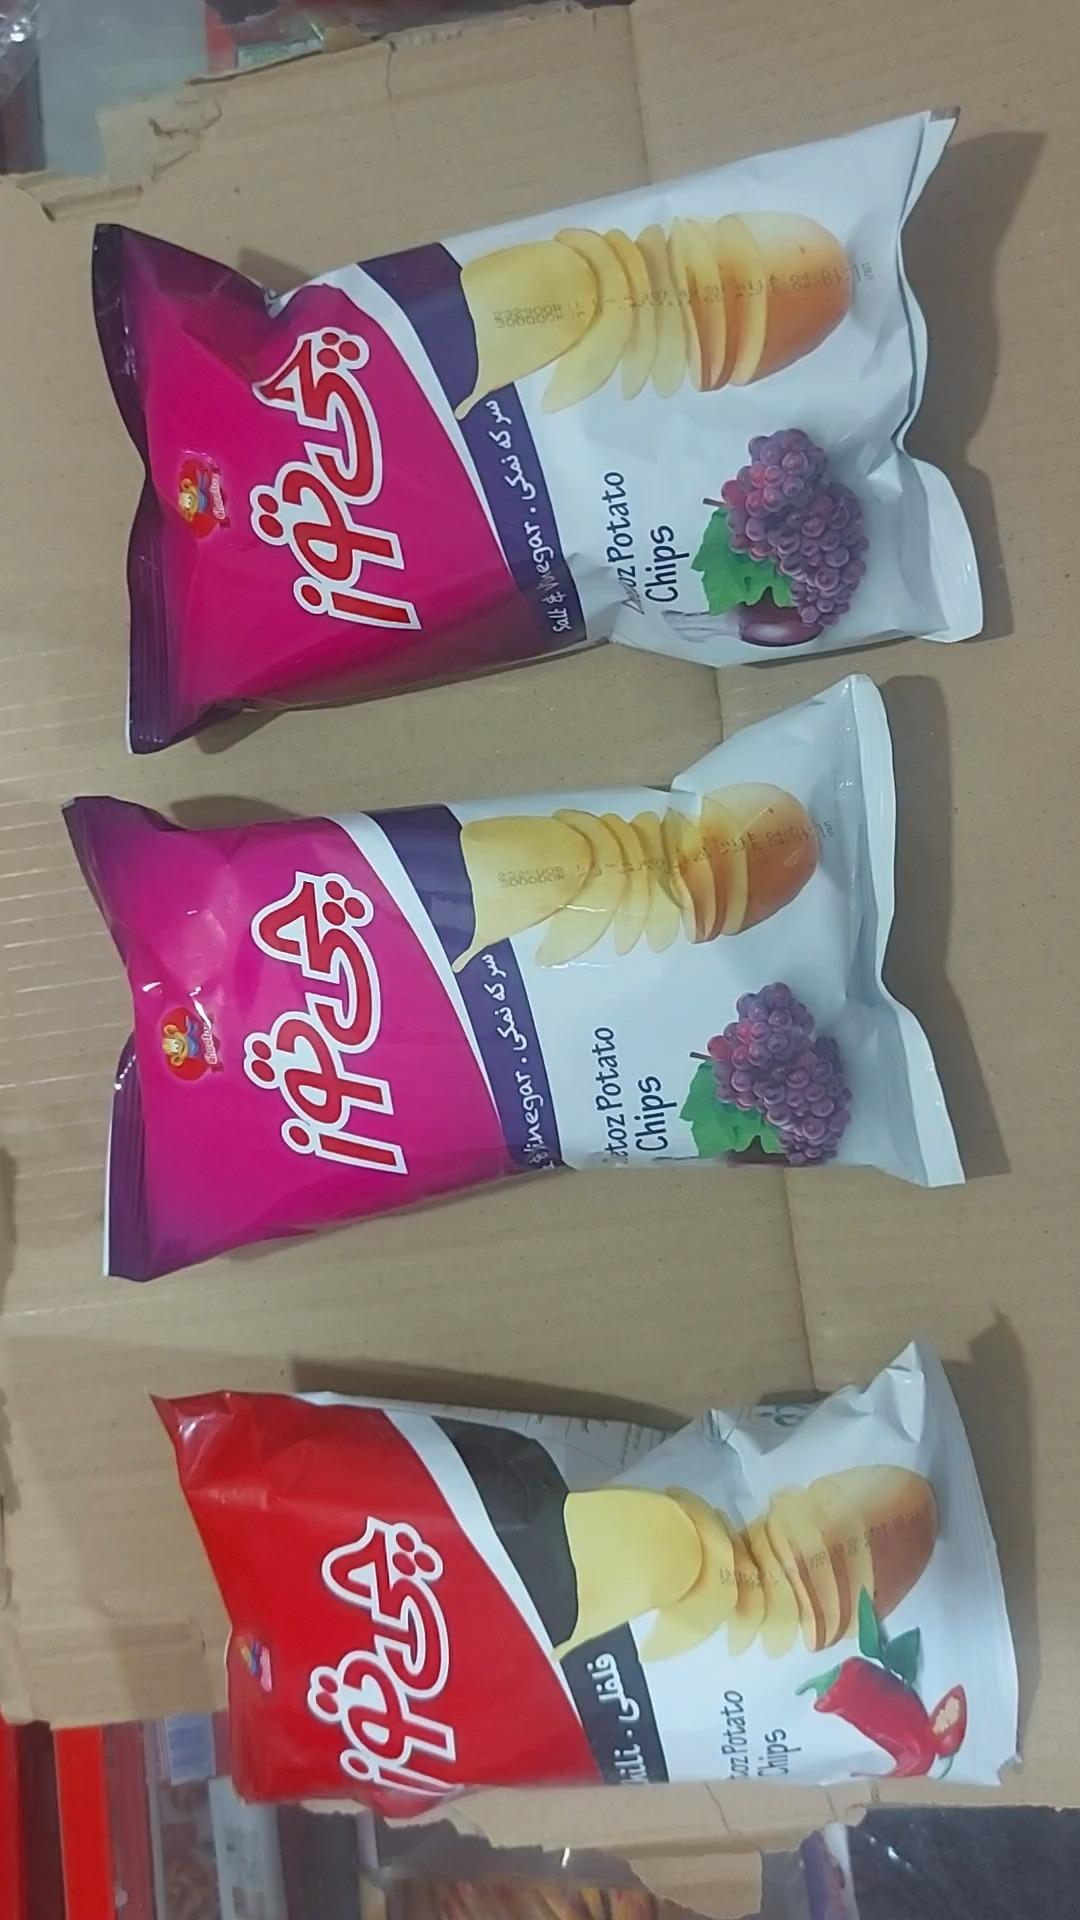Cheetoz chili chips: (156, 1346, 1018, 1817)
Cheetoz vinegar chips: (92, 115, 982, 753), (65, 678, 960, 1279)
